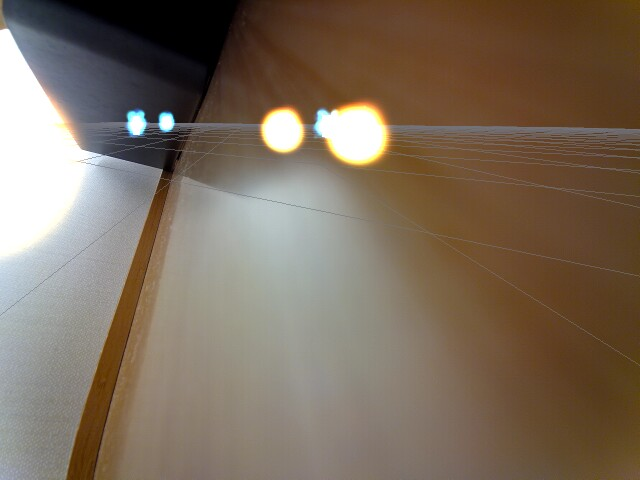firebig: (0, 99, 85, 263)
